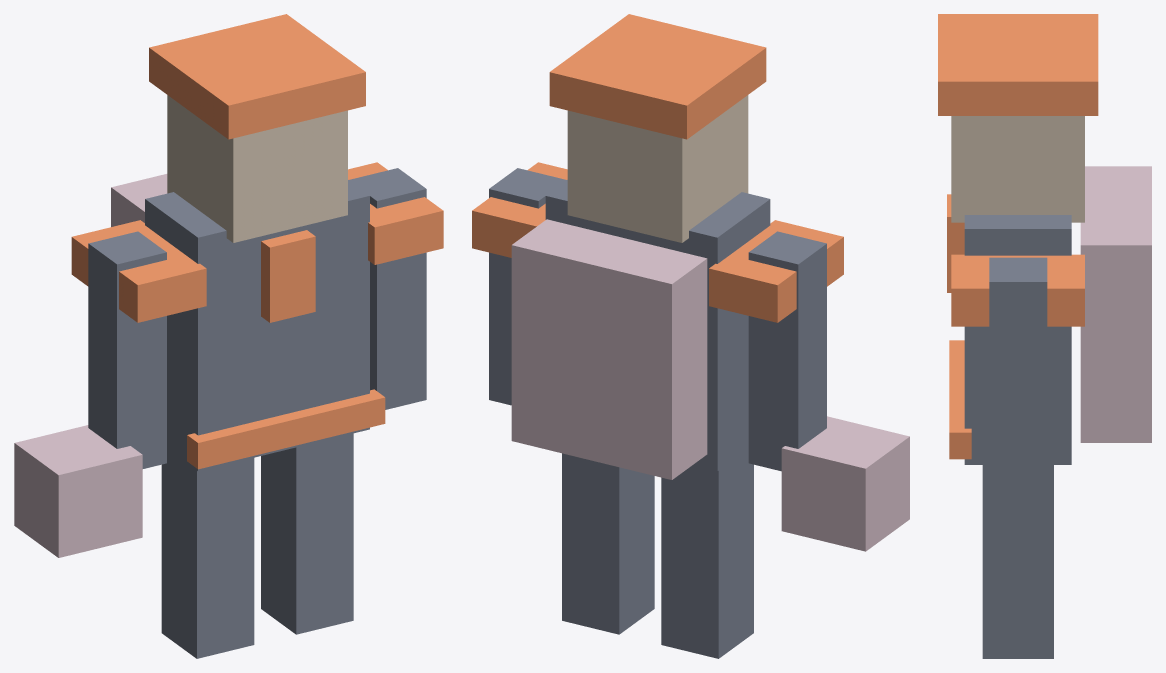
File: 02_vale_tideforged_oracle_of_patrol.glb
3 renders of one model, left to right at view 1: azimuth 30°, elevation 25°; view 2: azimuth 150°, elevation 25°; view 3: azimuth 270°, elevation 25°, orthographic.
Parts seen in each view (by area): view 1: Vale Tideforged, Oracle of Patrol; view 2: Vale Tideforged, Oracle of Patrol; view 3: Vale Tideforged, Oracle of Patrol.
Part boxes in pixels (box(x1,y1,x2,y2)): Vale Tideforged, Oracle of Patrol: box(14, 14, 443, 658); Vale Tideforged, Oracle of Patrol: box(472, 14, 909, 658); Vale Tideforged, Oracle of Patrol: box(938, 14, 1151, 658).
Size of the model in its own units: 1.07 by 1.52 by 0.514.
